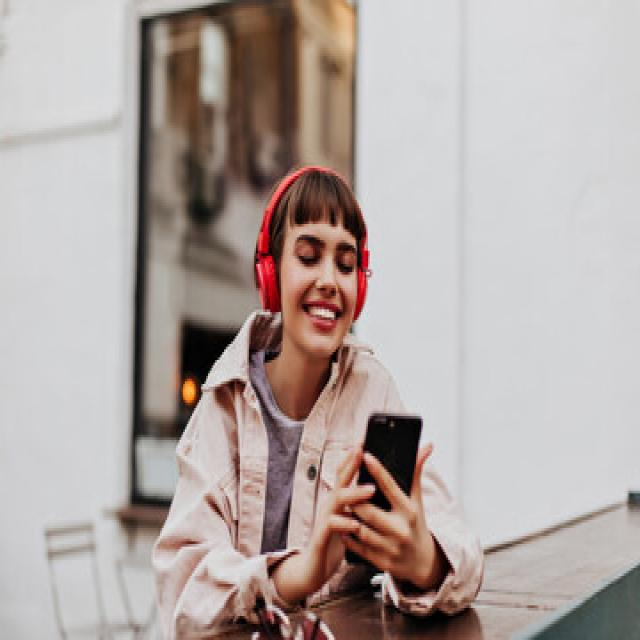Headphone: (252, 166, 371, 320)
